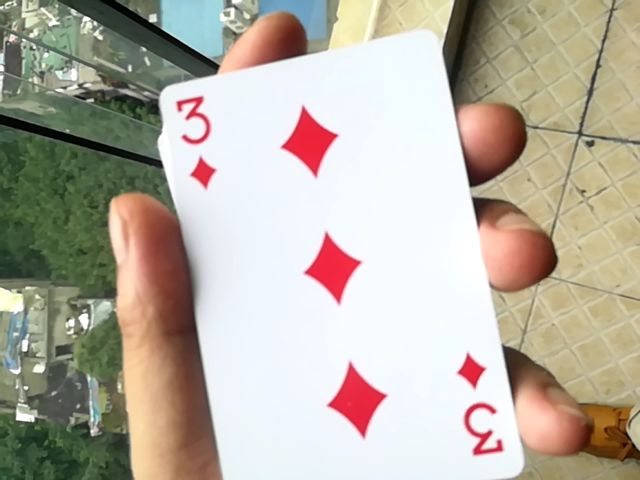fk 3: (124, 28, 524, 476)
